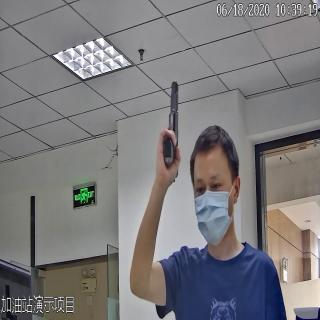gun: (158, 73, 182, 187)
